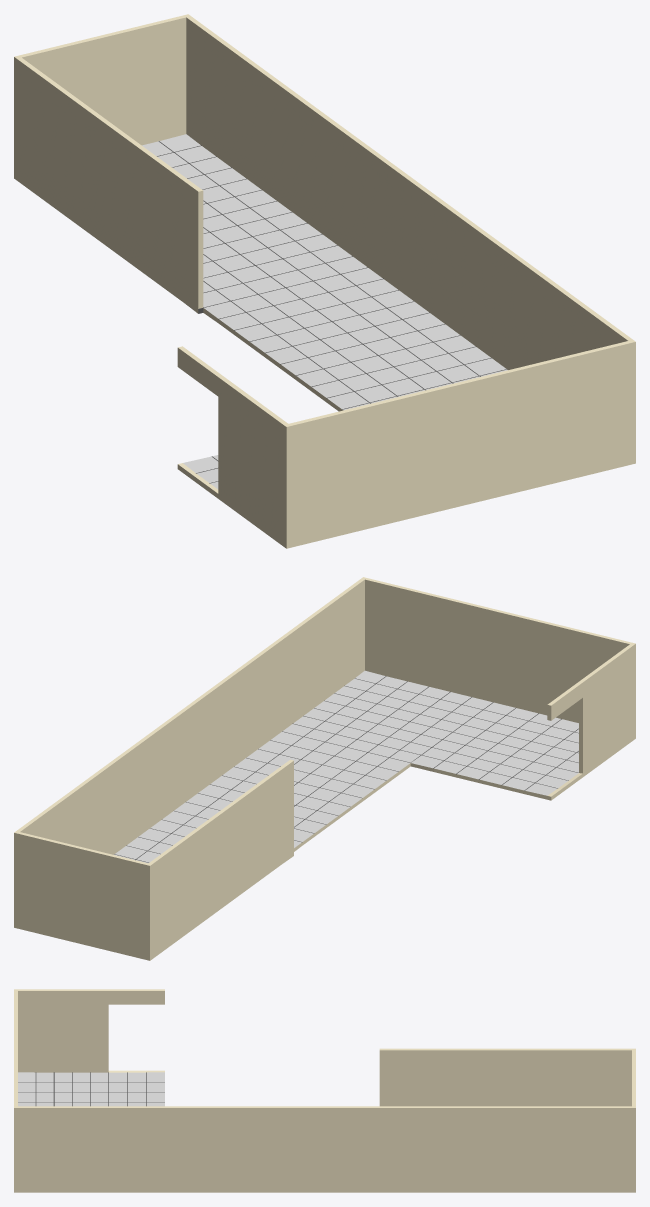
File: Salle_Amphi2.fbx
3 renders of one model, top to bottom at view 1: azimuth 30°, elevation 25°; view 2: azimuth 150°, elevation 25°; view 3: azimuth 270°, elevation 25°, orthographic. The views are drawn at different scales.
Parts seen in each view (by area): view 1: Salle_Amphi2; view 2: Salle_Amphi2; view 3: Salle_Amphi2.
Boxes of the visible parts, x1=… form: Salle_Amphi2: x1=14, y1=14, x2=635, y2=548; Salle_Amphi2: x1=14, y1=577, x2=635, y2=960; Salle_Amphi2: x1=14, y1=989, x2=635, y2=1192.
Size of the model in its own units: 724 by 242 by 1606.
